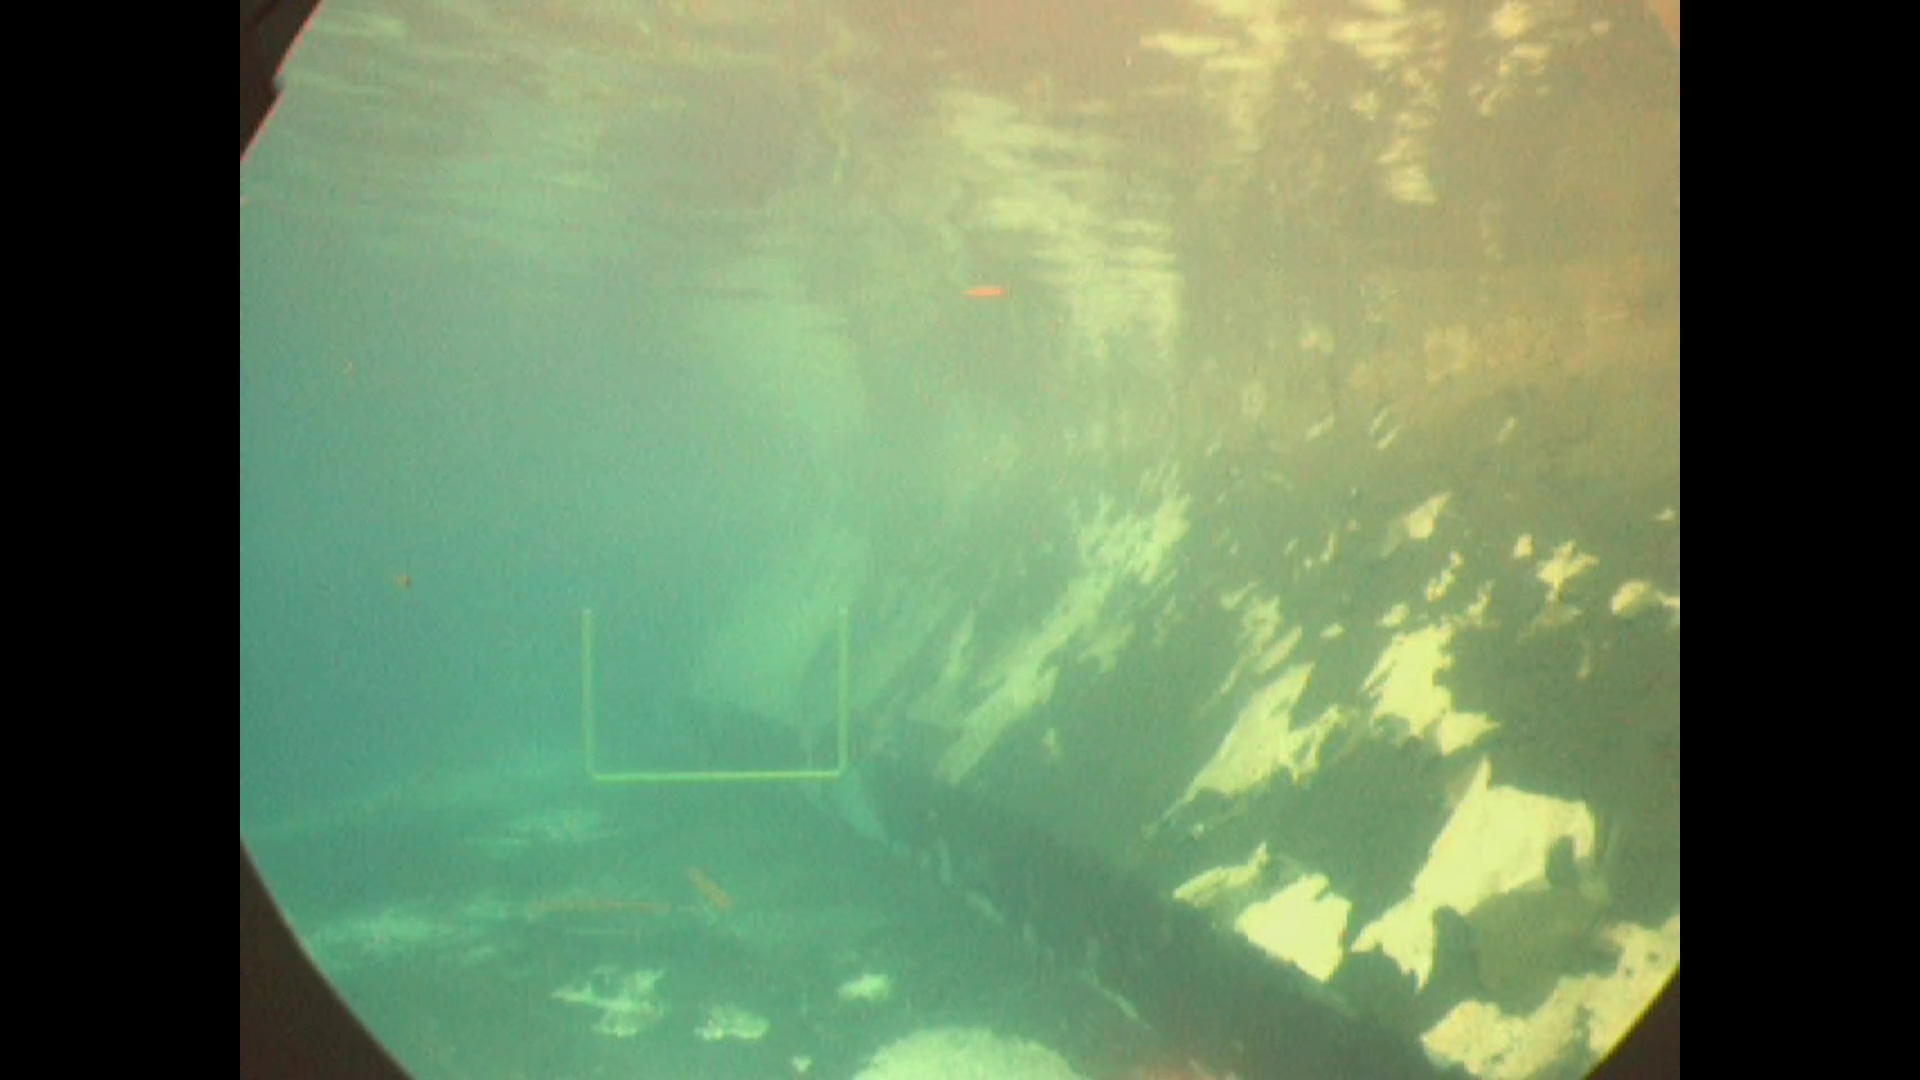gate: (578, 603, 856, 786)
